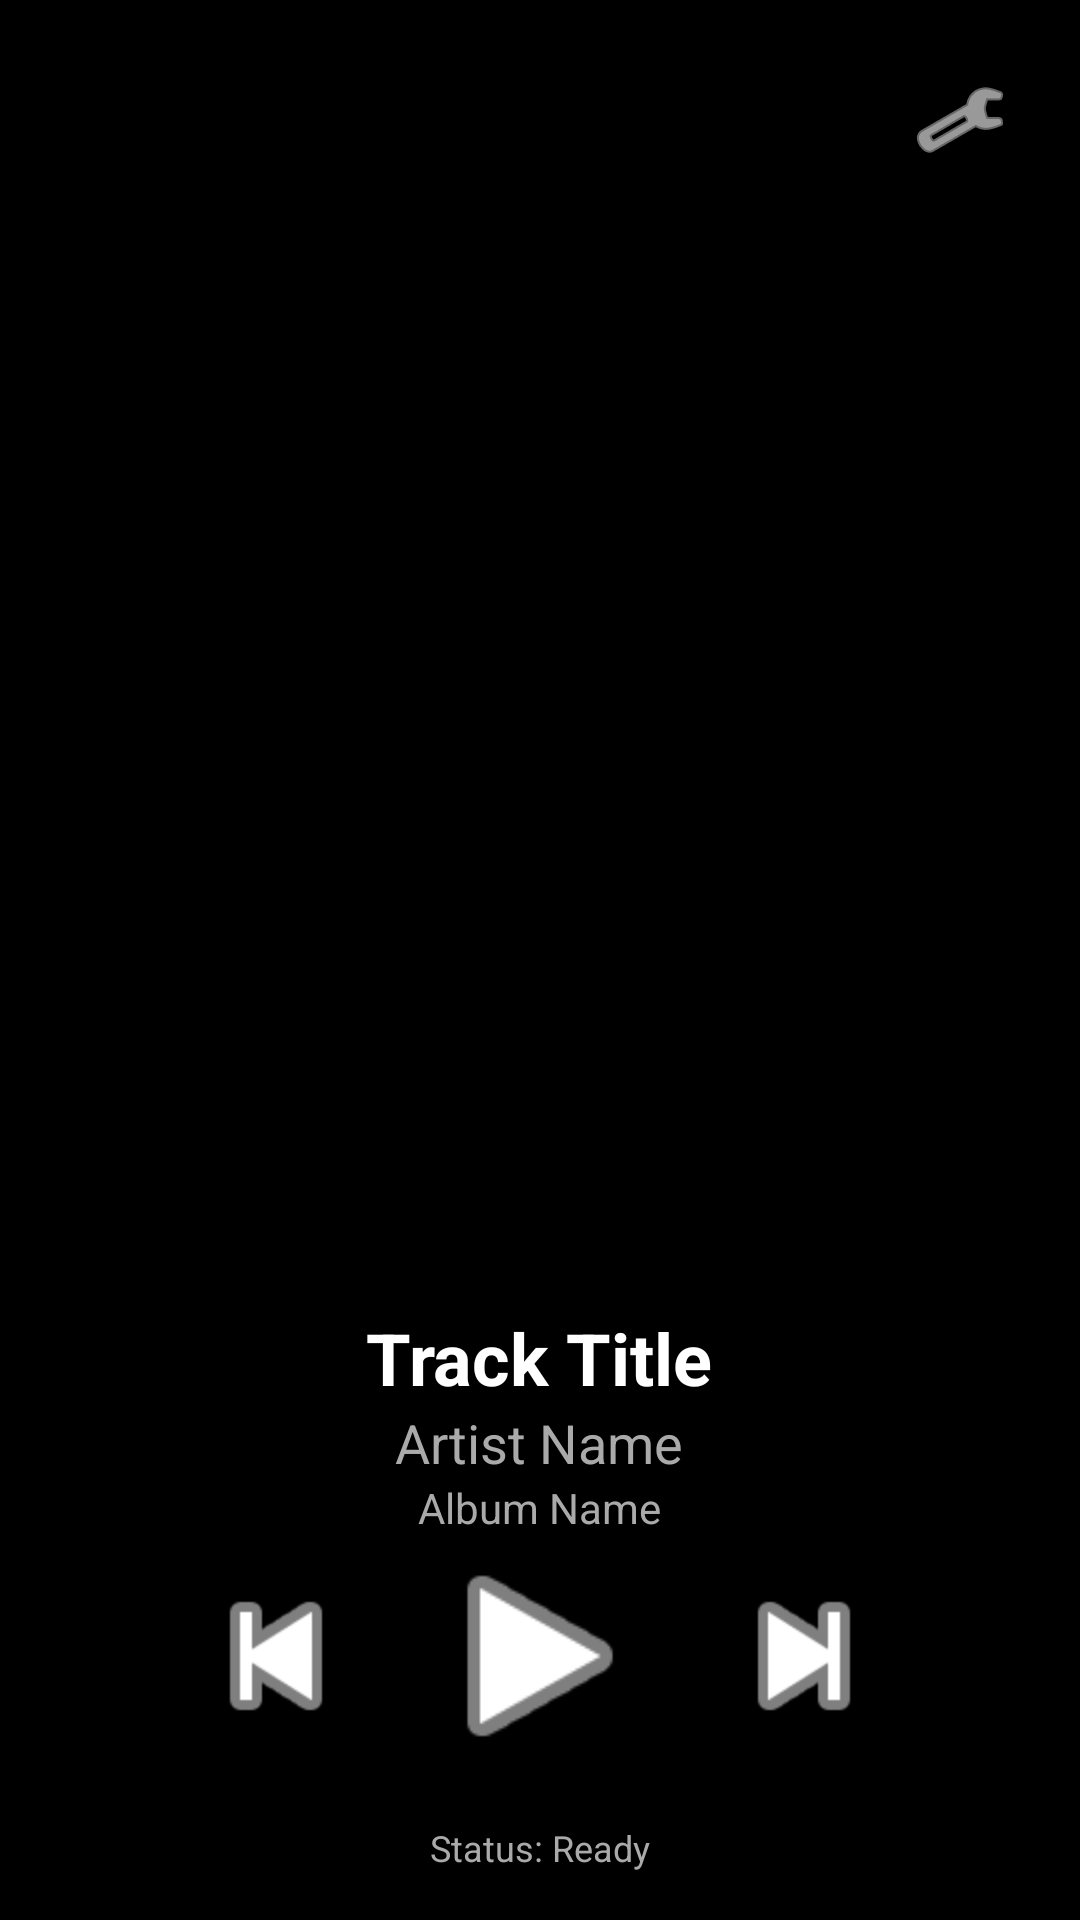

Icon bounding boxes for this 1080px×1920px phone screenshot, format (x1, y1, x2, y2):
Next: (757, 1601, 851, 1711)
Play Pause: (467, 1575, 613, 1737)
Previous: (229, 1601, 323, 1711)
Settings: (917, 87, 1003, 153)
